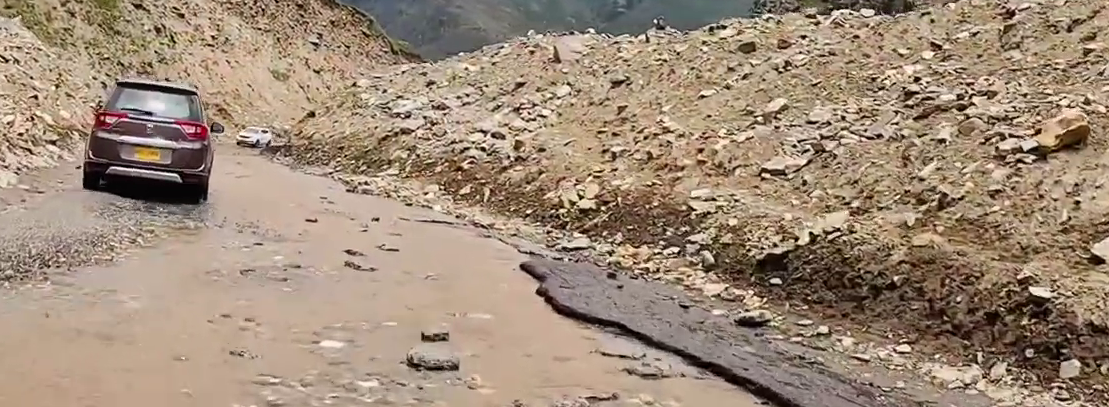unexpected: (282, 147, 927, 309)
